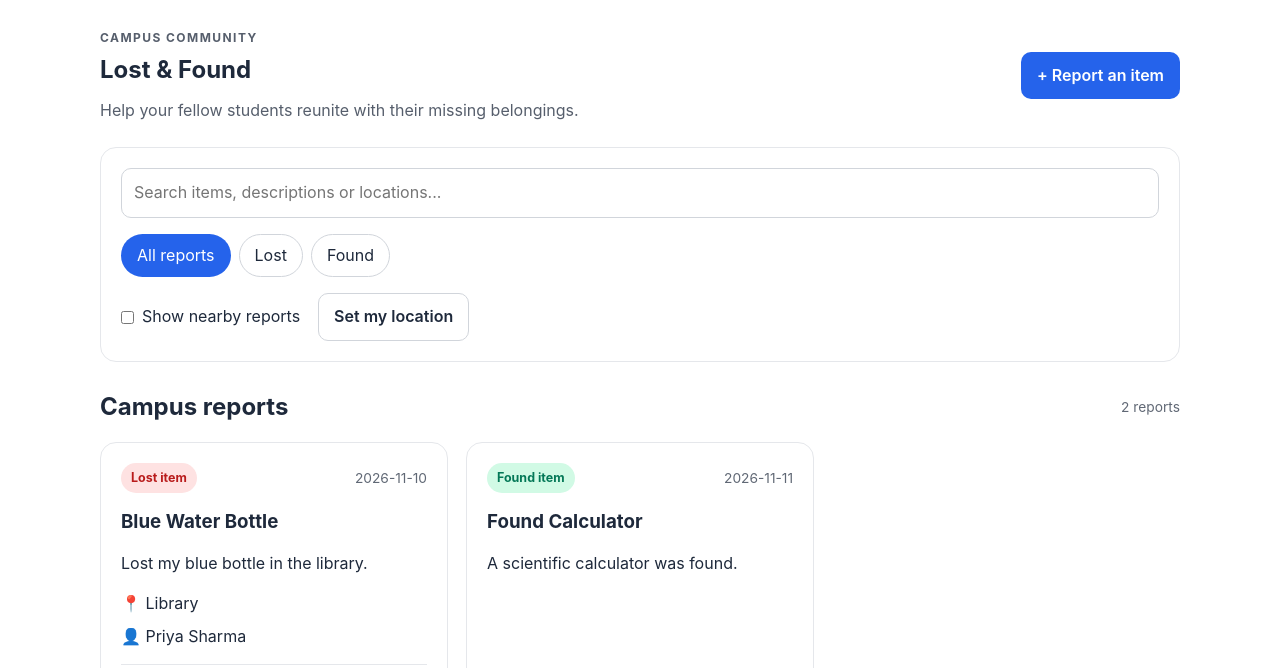
Test: LostFound Page › filters reports by Lost status
Click the button "Lost".
click(271, 256)  # box [239, 234, 303, 277]
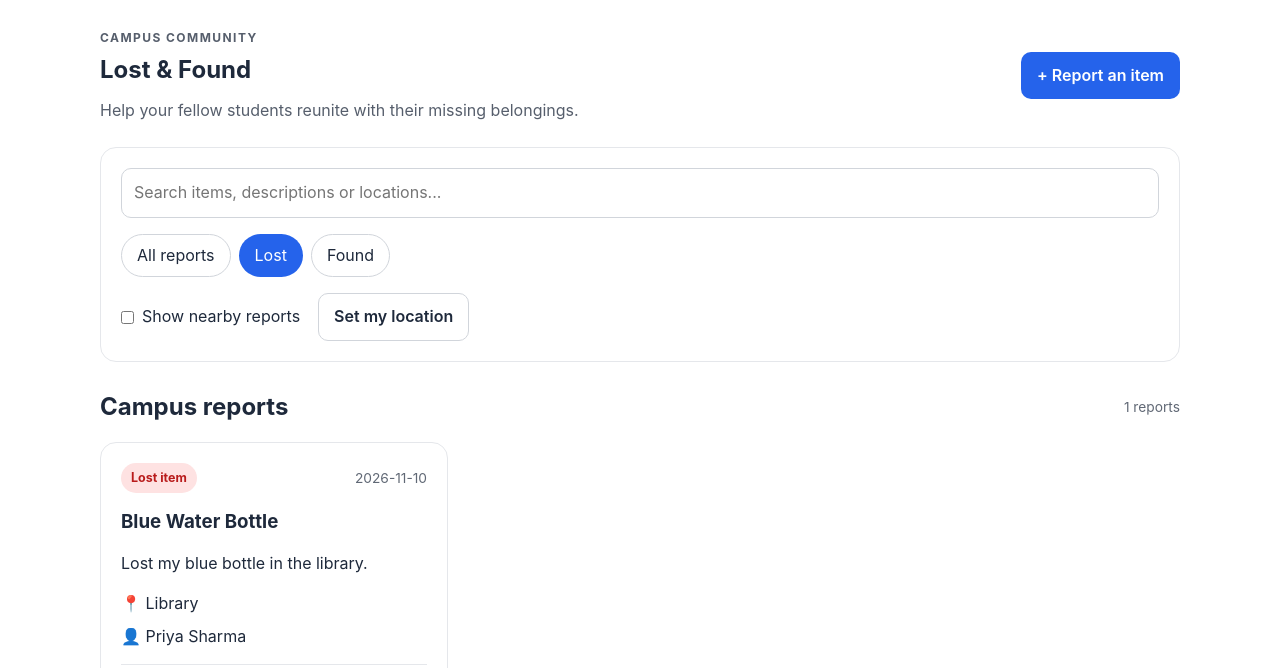
expect the heading "Blue Water Bottle" is shown: met, box [121, 510, 278, 533]
expect the heading "Found Calculator" is gone: met
